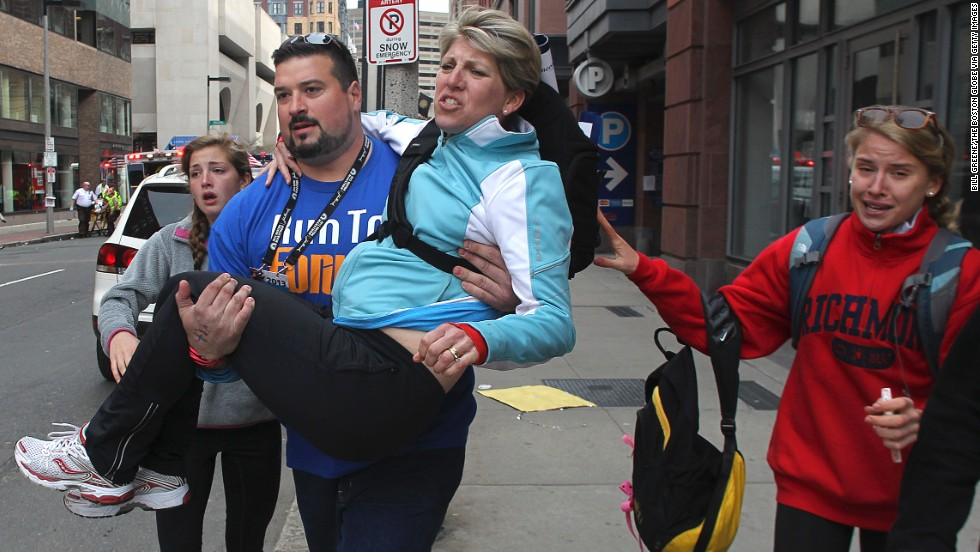Person: (689, 109, 970, 552), (404, 37, 575, 418), (213, 33, 380, 247)
